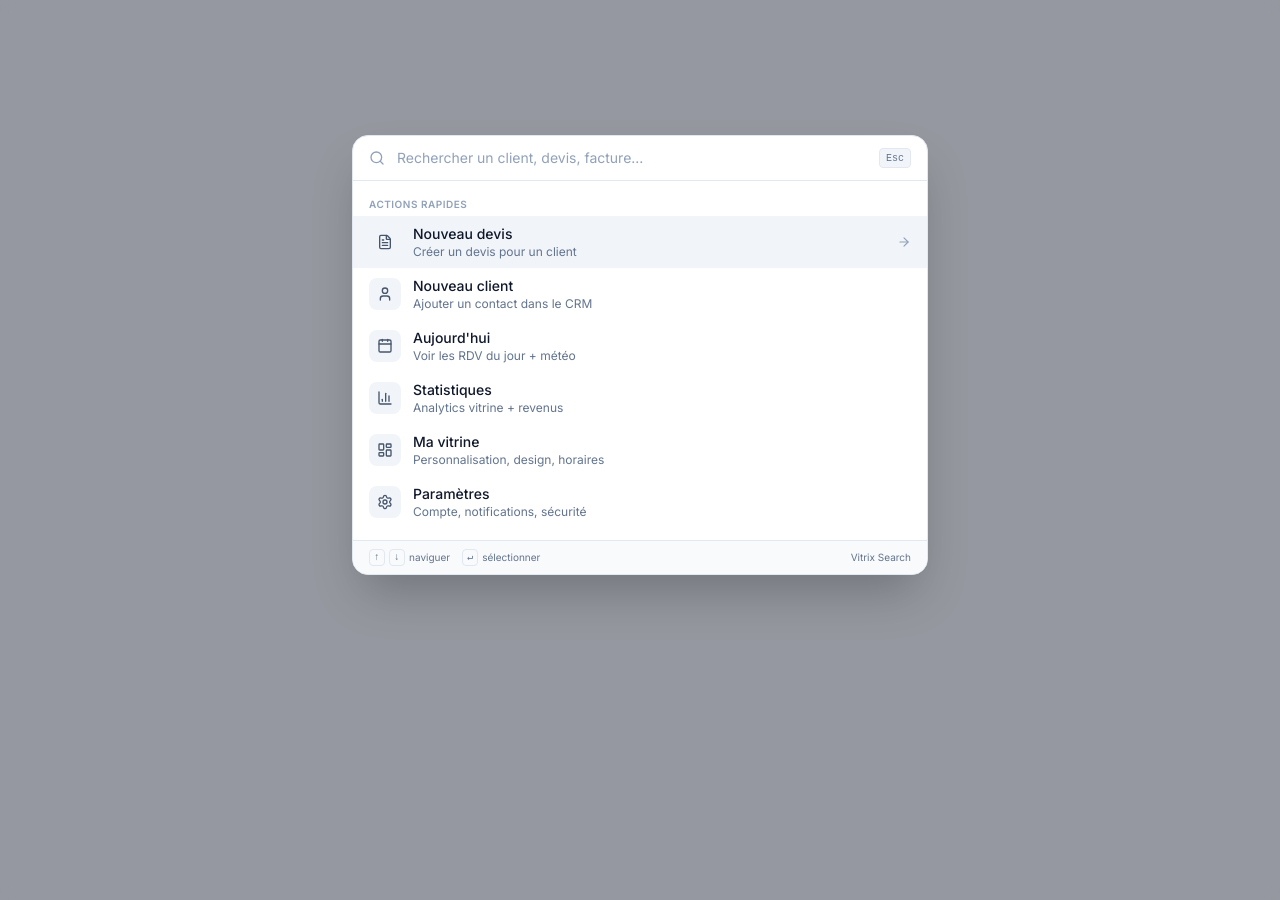
Test: <CommandPalette /> — recherche › affiche les résultats privés dans le groupe 'Dans votre business'
Type "marie" into the field with placeholder "Rechercher un client, devis, facture...".
click(632, 158); type("marie")  # box [397,148,867,168]
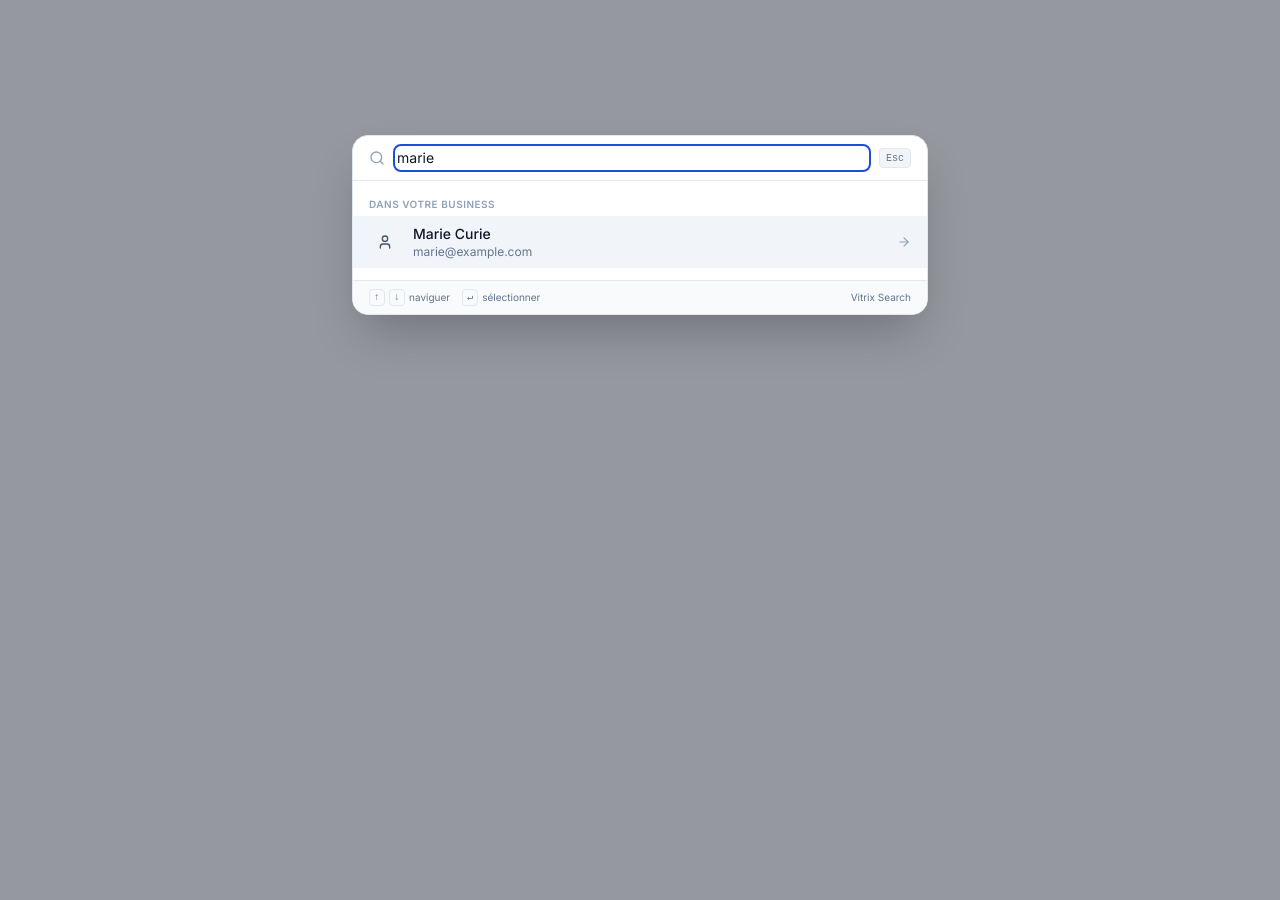
Check: the text "Marie Curie" is shown, box [413,225,491,242]
Check: the text "Dans votre business" is shown, box [369,198,495,210]
